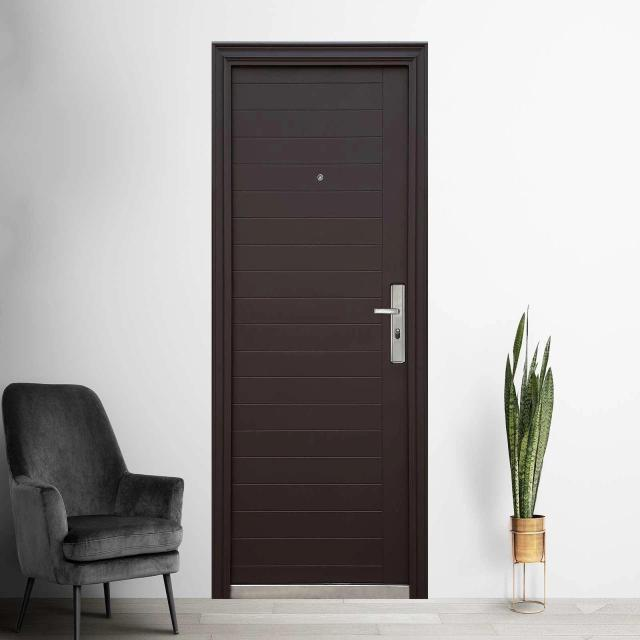door: (212, 41, 428, 599)
